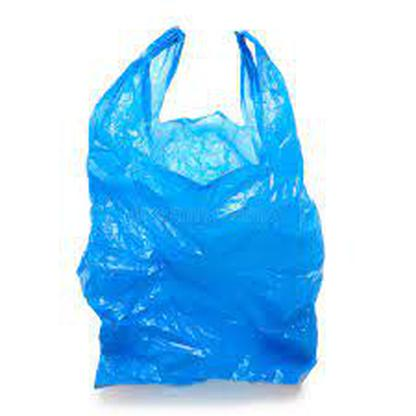plastic bag: (76, 26, 322, 388)
